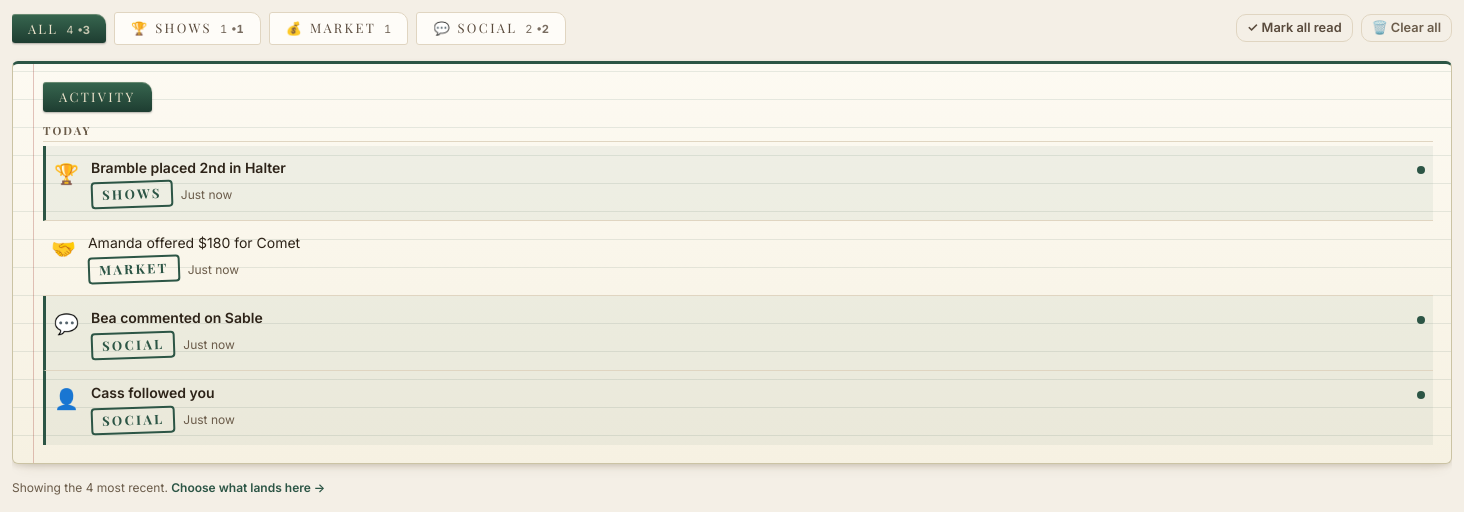
Scenario: NotificationList — actions › marks all read and drops the button once nothing is unread
Click the button "✓ Mark all read": (1294, 28) x1=1236 y1=14 x2=1353 y2=42
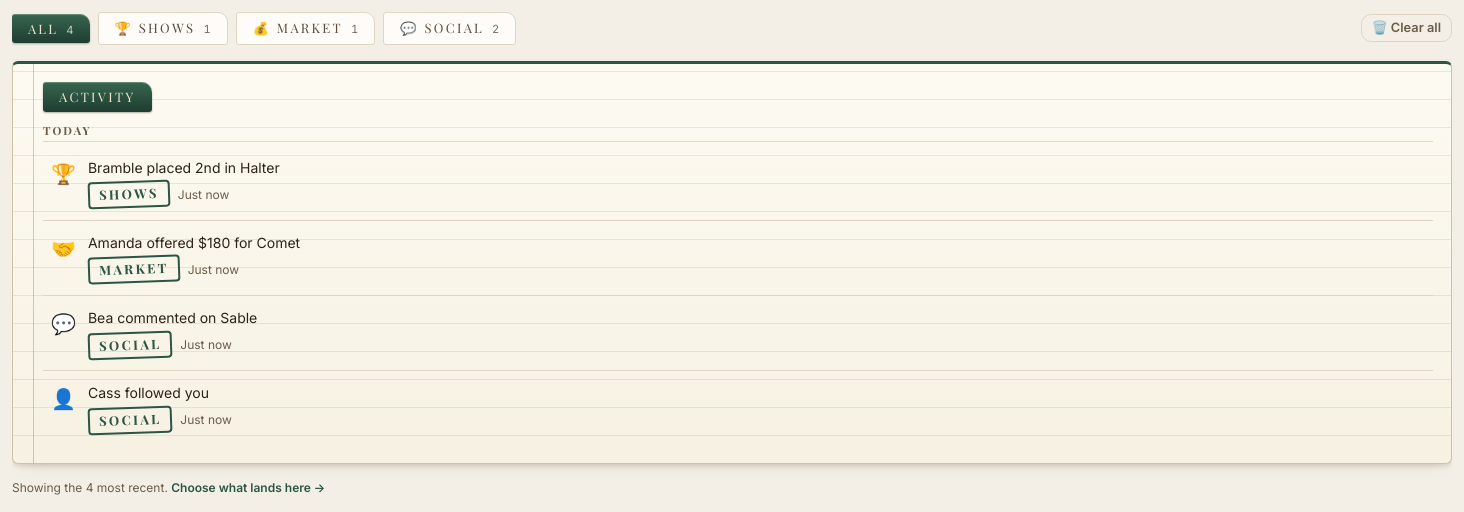
Result: the button "Mark all read" is gone
